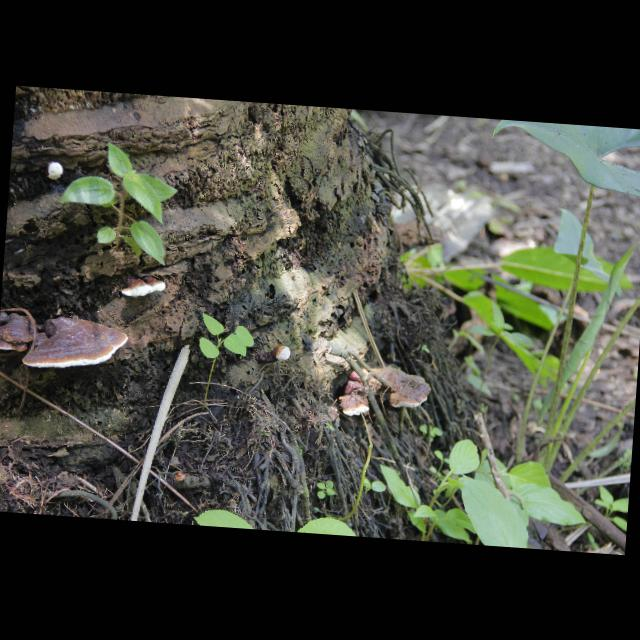ganoderma: (22, 315, 130, 375), (372, 367, 434, 412), (338, 371, 373, 419), (1, 314, 36, 354), (122, 276, 167, 300)
primordium: (46, 162, 65, 181), (273, 346, 291, 364)
